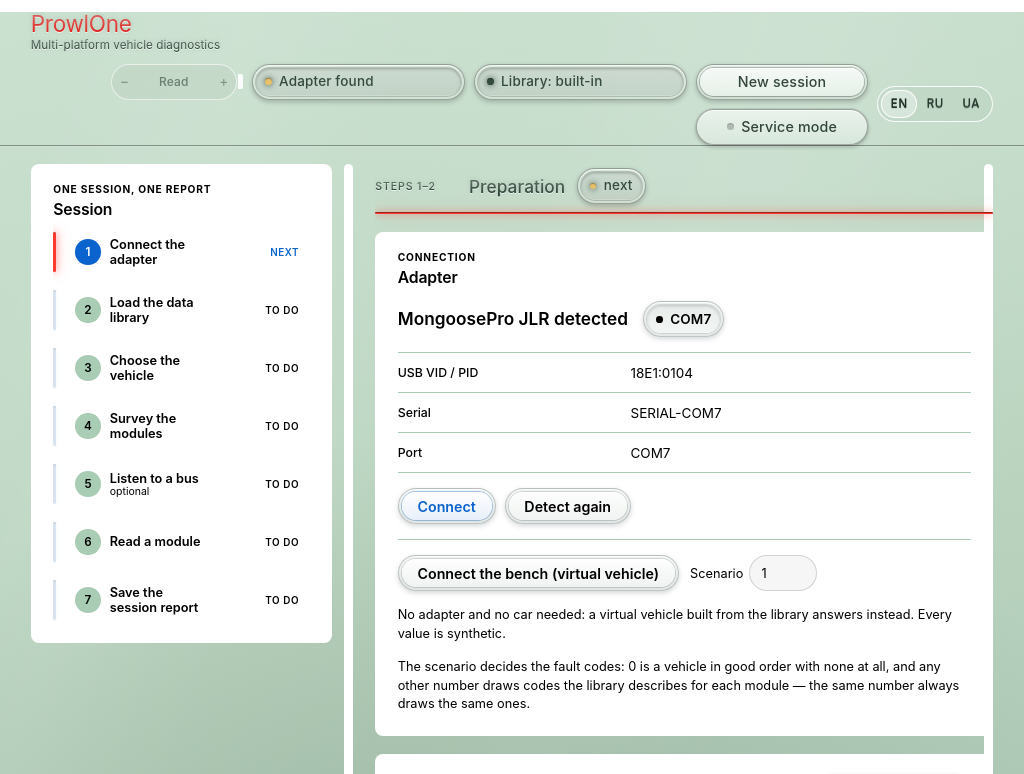
ProwlOne application shell › shows a normal board communication error and technical details
The image size is (1024, 774).
What coordinates should you click on to do the following:
click the button "Connect"
I would click on:
 (447, 506)
Its box is [398,488,496,524].
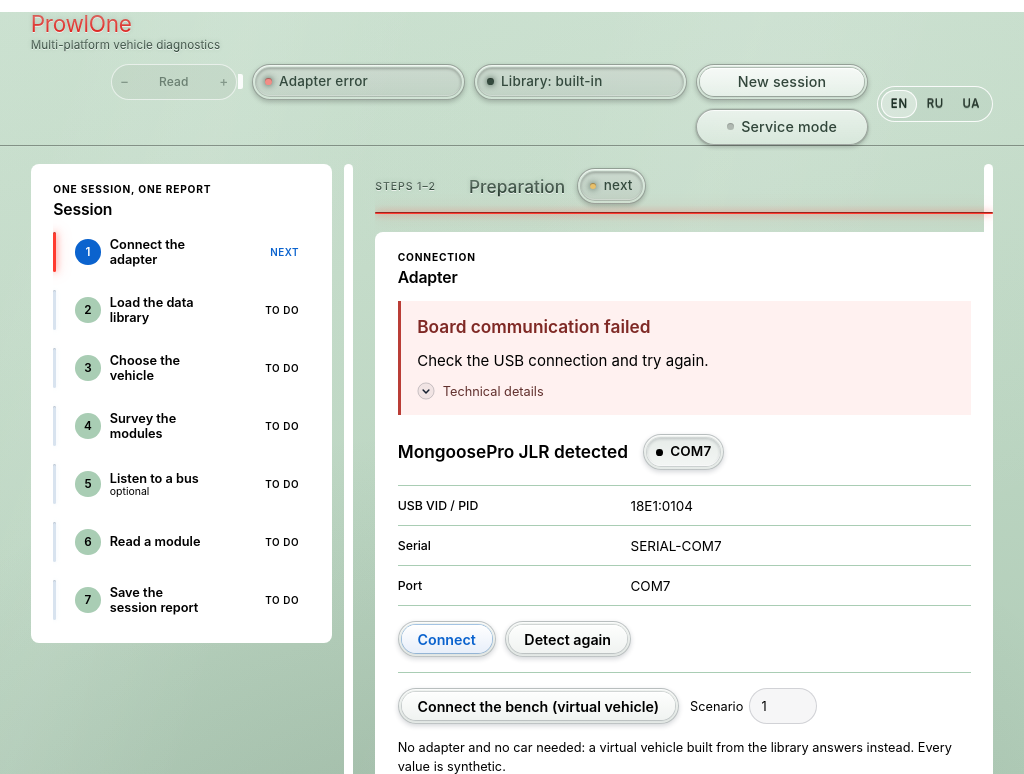
Now the message shows "Board communication failed", box [417,316,650,338]
